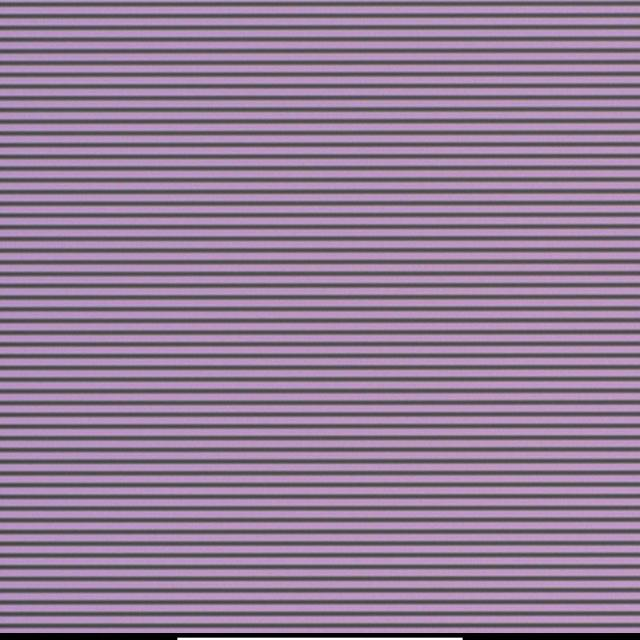nonvisual: (329, 293, 336, 303)
